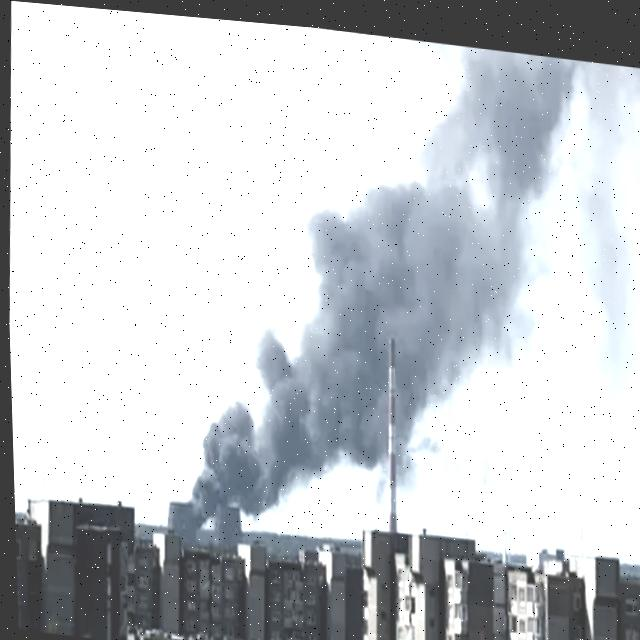Smoke: (171, 12, 640, 562)
